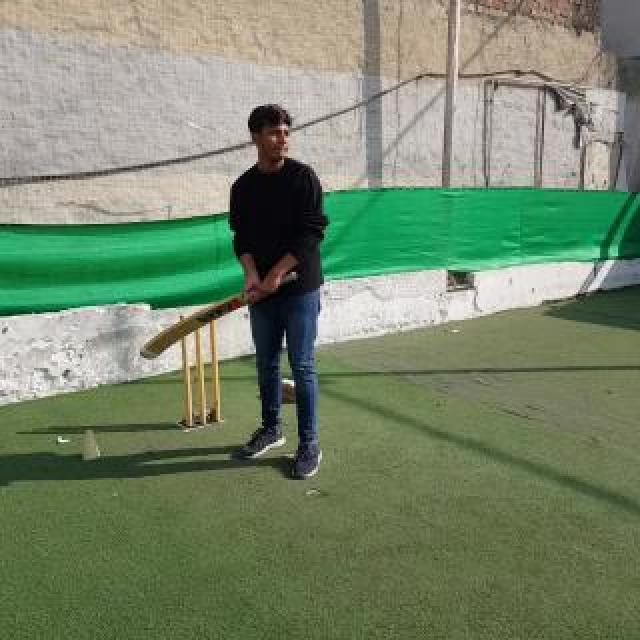bat: (140, 272, 298, 358)
